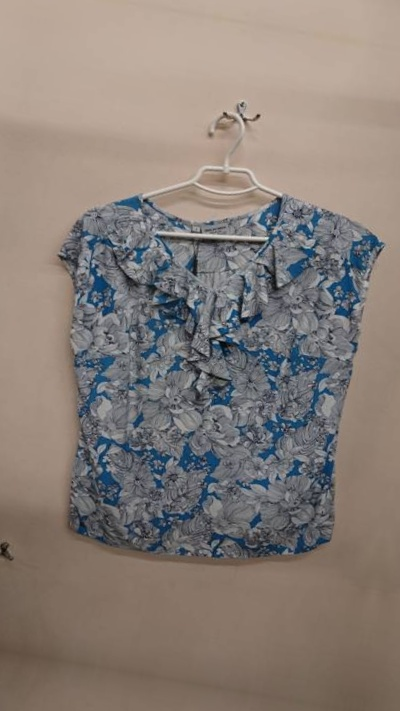Blouse: (4, 136, 400, 600), (393, 203, 400, 667)
